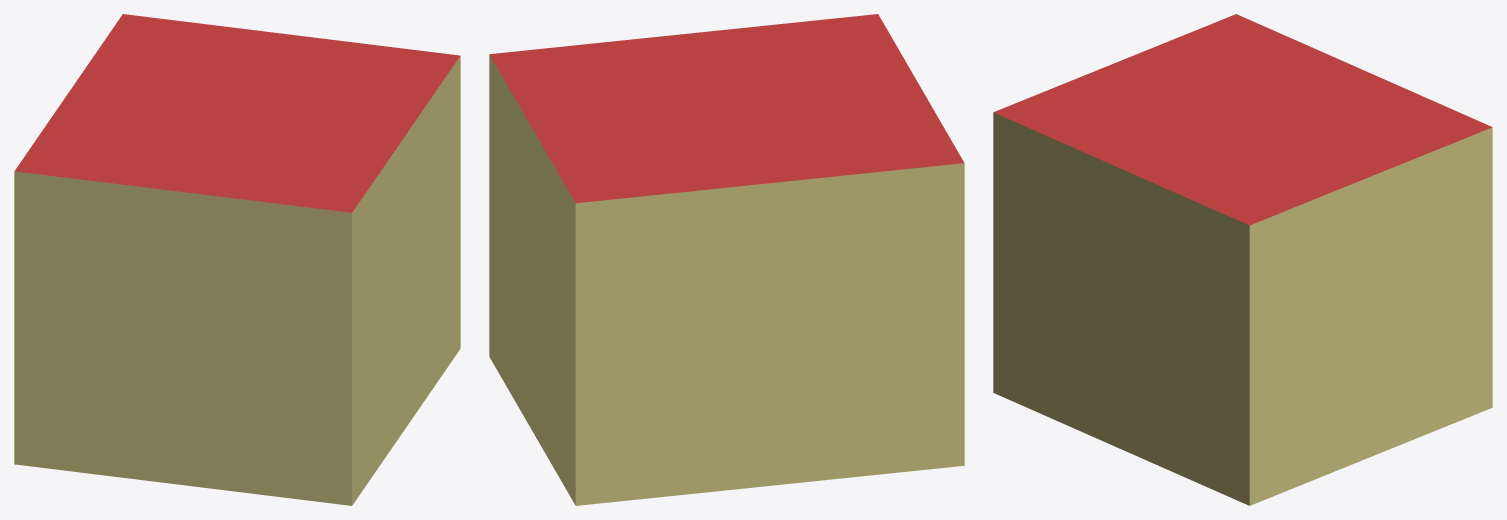
3 views of the same model, side by side, from view 1: azimuth 30°, elevation 25°; view 2: azimuth 150°, elevation 25°; view 3: azimuth 270°, elevation 25° (orthographic). The views are drawn at different scales.
Size of the model in its own units: 10.83 by 10.8 by 6.69.
